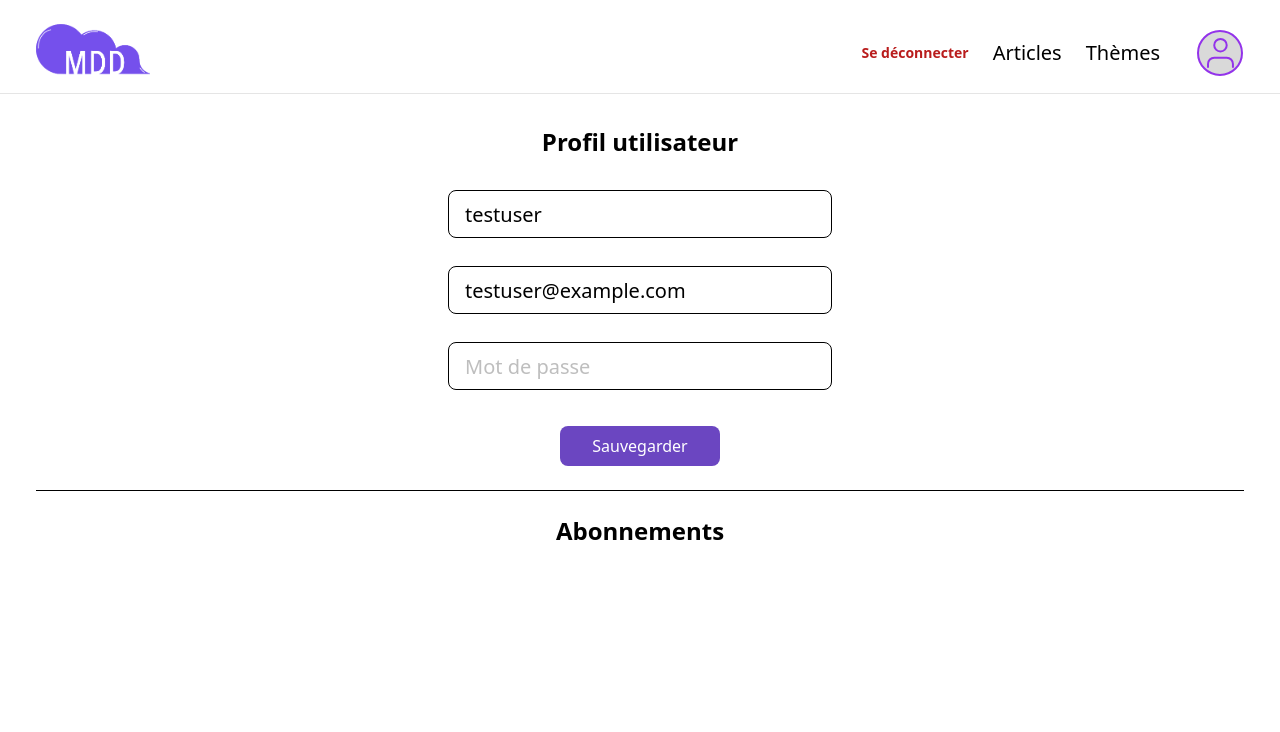
Test case: Profile Flow › should validate password match
In the password field with placeholder "Mot de passe": (640, 366) [448,342,832,390], type "weak"
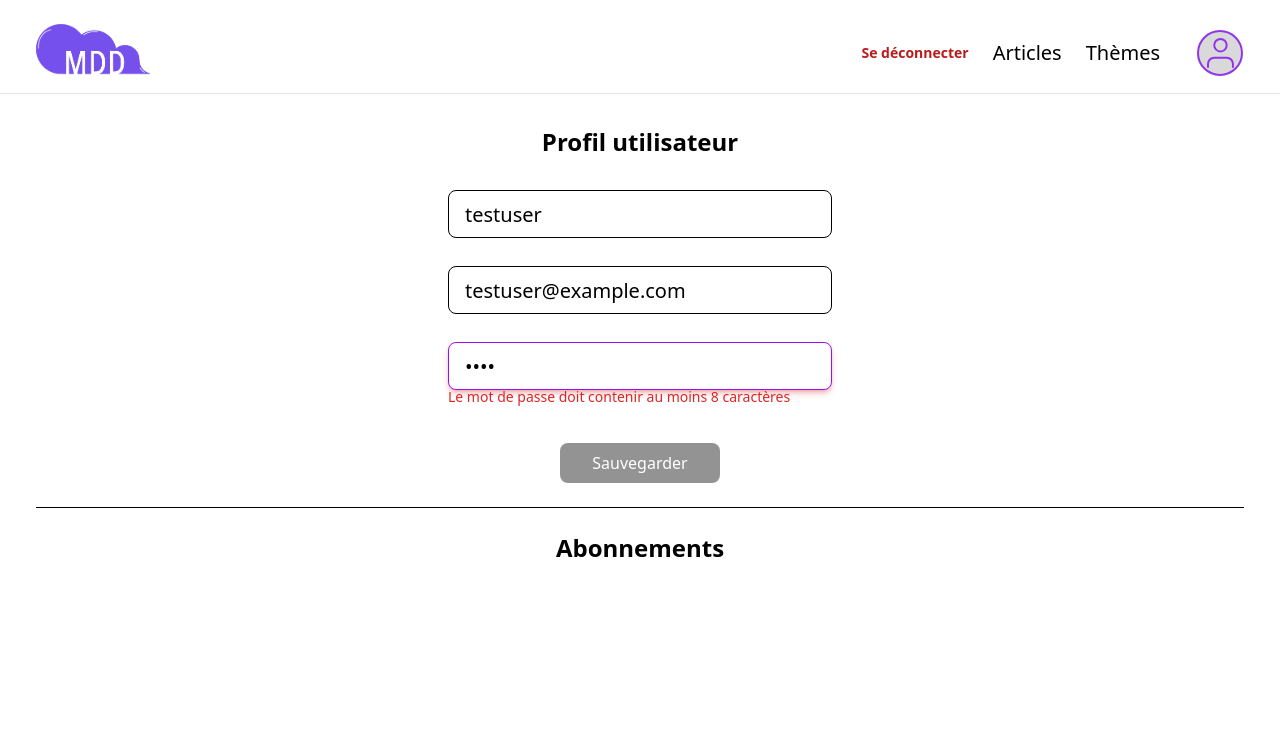
Check: the submit button is disabled, box [560,443,720,483]
